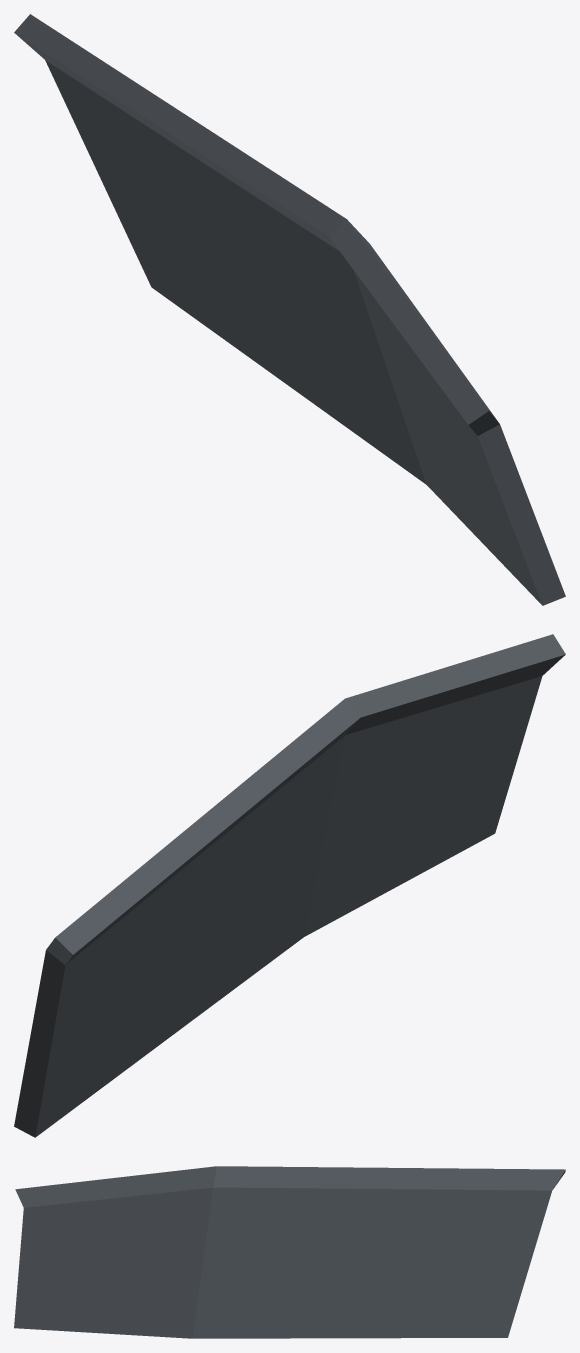
The model's file is Fighter_05_Frame_Left.fbx.
3 renders of one model, top to bottom at view 1: azimuth 30°, elevation 25°; view 2: azimuth 150°, elevation 25°; view 3: azimuth 270°, elevation 25°, orthographic. The views are drawn at different scales.
Parts seen in each view (by area): view 1: Fighter_05_Frame_Left; view 2: Fighter_05_Frame_Left; view 3: Fighter_05_Frame_Left.
Boxes of the visible parts, left/top/right/bottom form: Fighter_05_Frame_Left: left=14, top=14, right=565, bottom=605; Fighter_05_Frame_Left: left=14, top=634, right=565, bottom=1137; Fighter_05_Frame_Left: left=14, top=1166, right=565, bottom=1338.
Bounding box in the file's own units: 92.67 × 182 × 591.
Materials: 1 (1 with a texture image).
